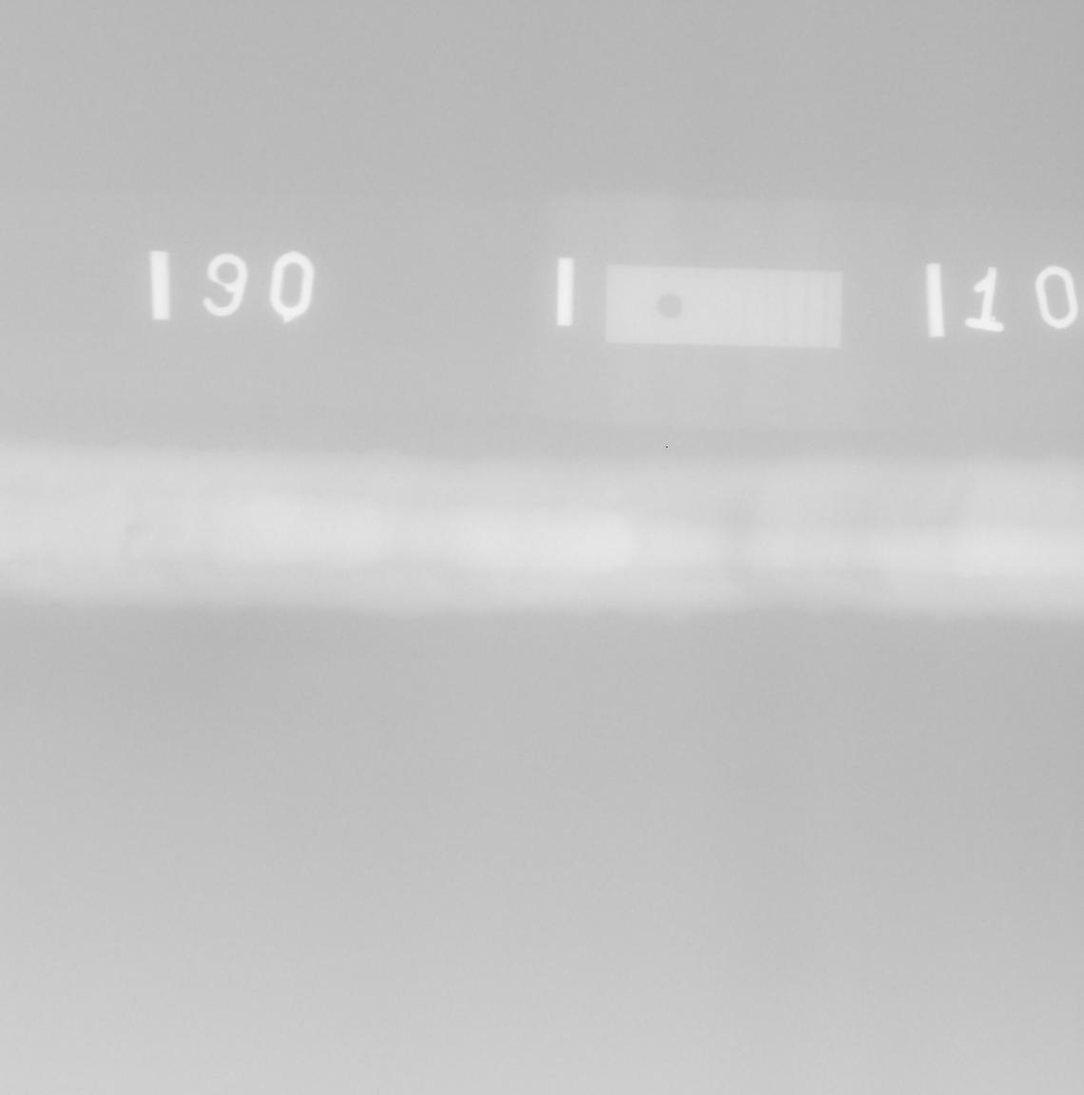Pore/Porosity: (125, 525, 135, 531), (361, 516, 367, 524), (136, 513, 141, 517), (75, 528, 79, 531)
Reference Standard 1: (604, 265, 841, 349)
